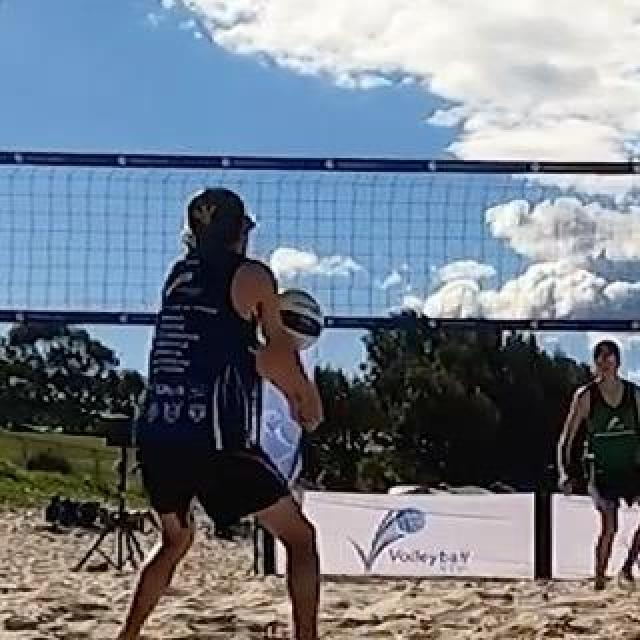volleyball: (260, 287, 324, 351)
